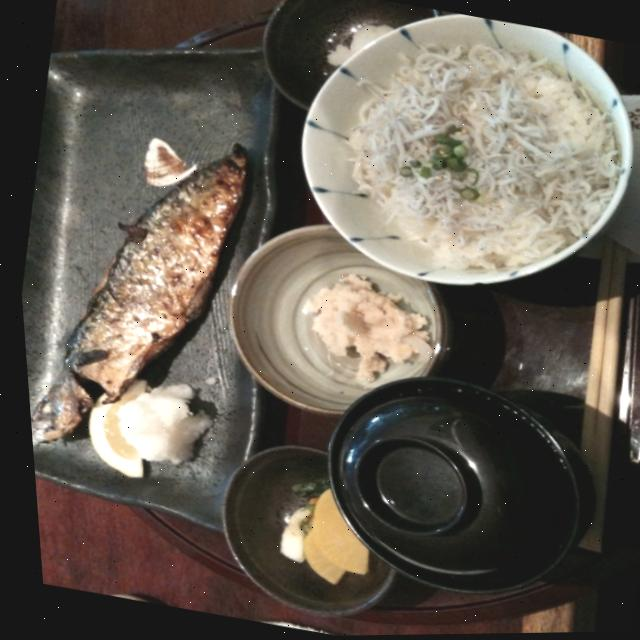熟制海鲜: (0, 0, 330, 541)
米饭主食: (265, 0, 640, 337)
